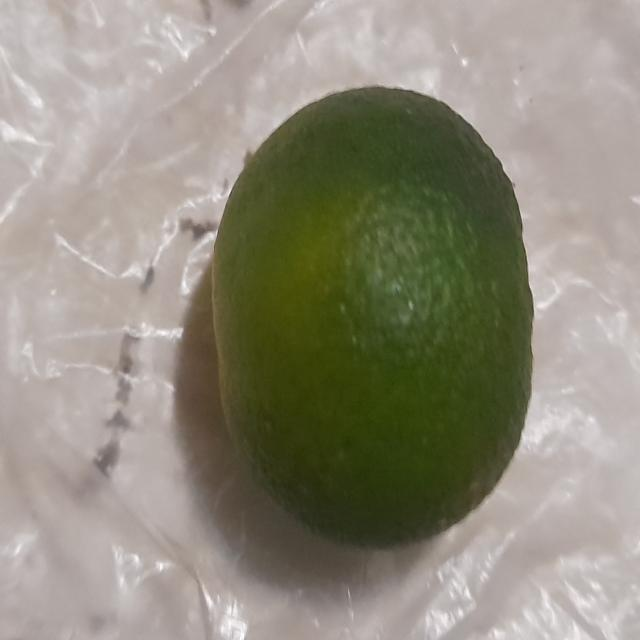heathy: (205, 76, 542, 548)
